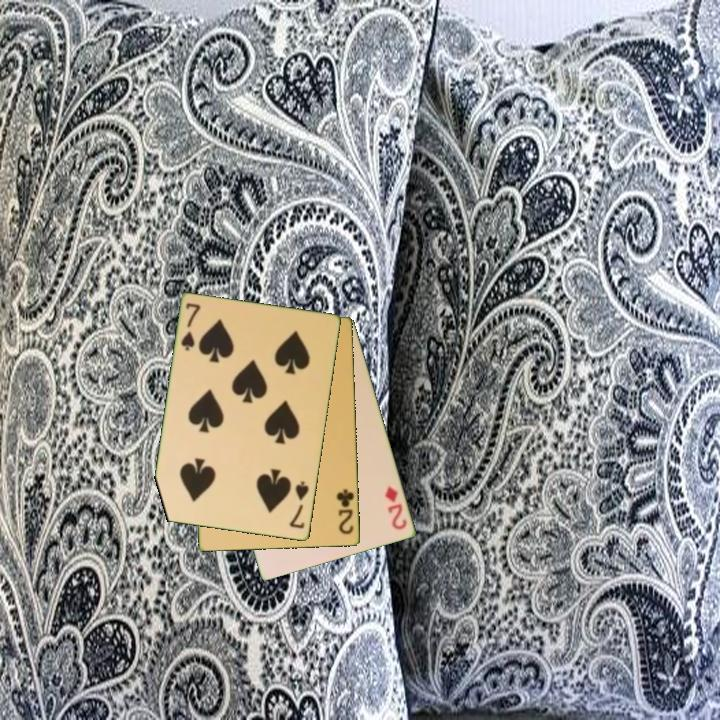2c: (333, 486, 357, 537)
2d: (382, 483, 410, 533)
7s: (286, 478, 312, 532), (178, 300, 203, 354)
